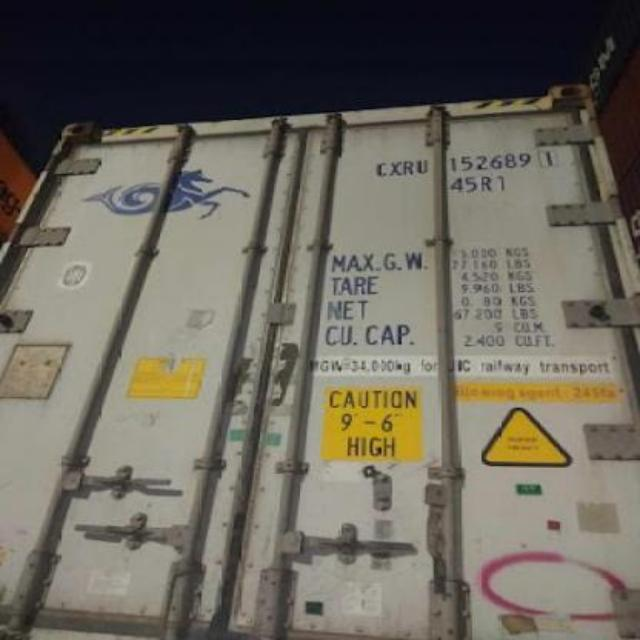1: (540, 145, 560, 169), (446, 151, 458, 175)
2: (476, 152, 489, 170)
5: (458, 150, 474, 173)
6: (491, 148, 504, 172)
8: (504, 146, 518, 172)
9: (516, 146, 532, 174)
C: (375, 162, 387, 178)
R: (404, 160, 414, 177)
U: (417, 158, 429, 176)
X: (388, 160, 402, 178)
